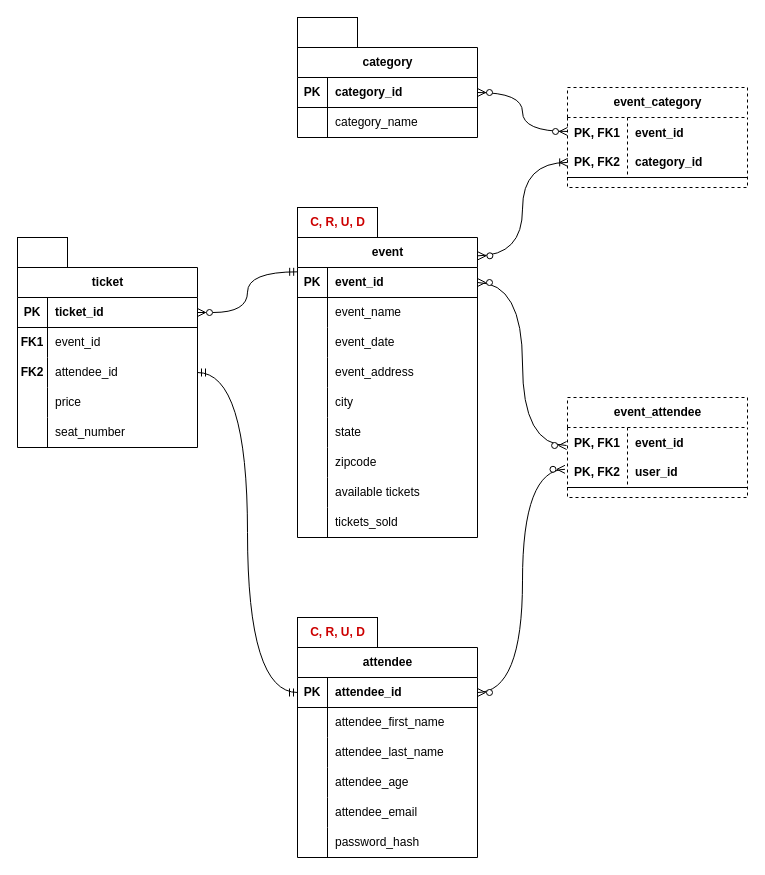
Some shapes in this 765 by 875 pixel diagram are drawn without their labels. The centre of each missing label's shape, as x and y in pixels:
"C, R" goes at [42,252].
"C, R, D" goes at [327,32].
